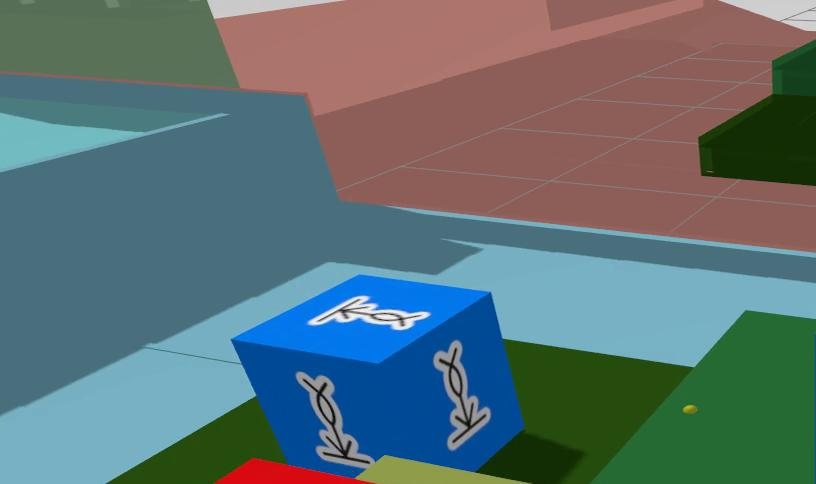KFS_FAKE: (214, 462, 369, 484)
KFS_REAL: (232, 275, 523, 476), (297, 372, 373, 468), (433, 340, 491, 450), (309, 295, 430, 330), (814, 333, 816, 484)
